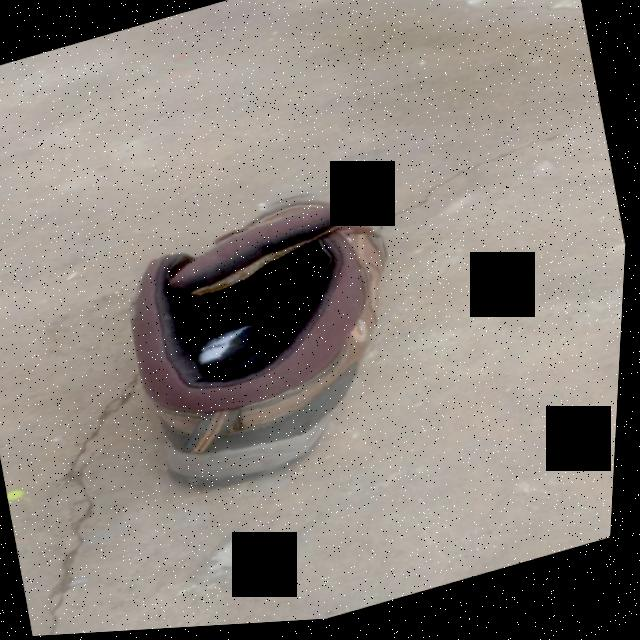shoe: (108, 172, 435, 510)
